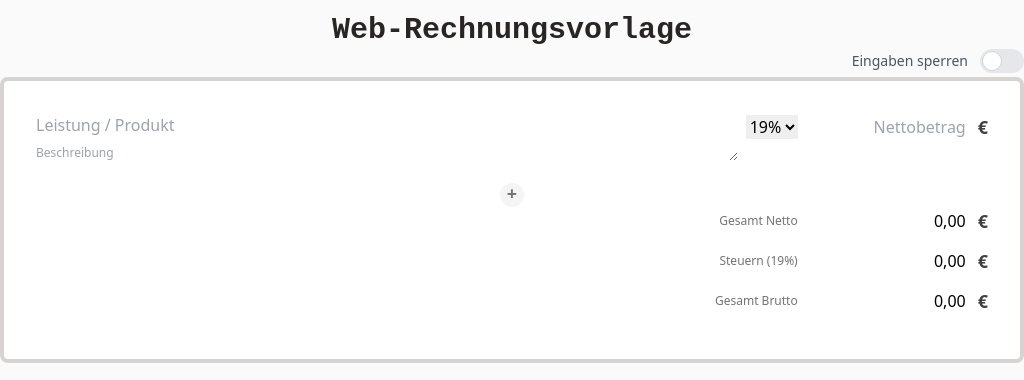
it: input calculations › one row 19% tax rate calculation
Type "100" into the field named "userNet" at (902, 127), box [806,115,998,139]
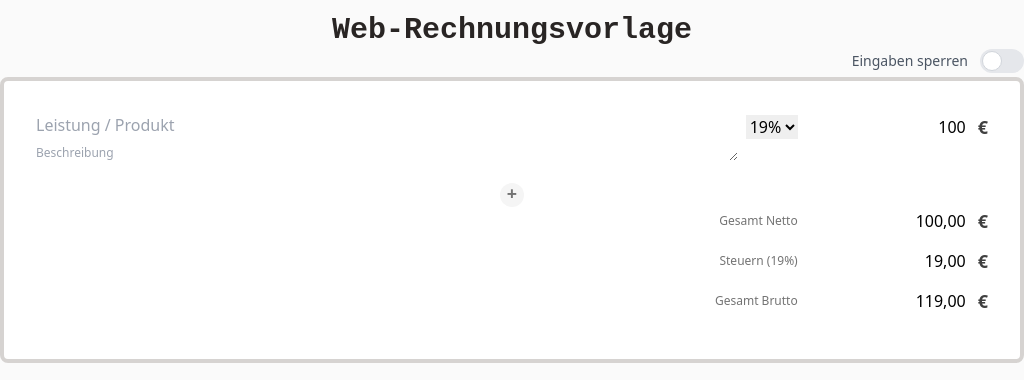
Result: the field with id "grossNet" holds "100,00" at [806,209,998,233]
Result: the field with id "grossTaxes-19" holds "19,00" at [806,249,998,273]
Result: the field with id "grossTotal" holds "119,00" at [806,289,998,313]
